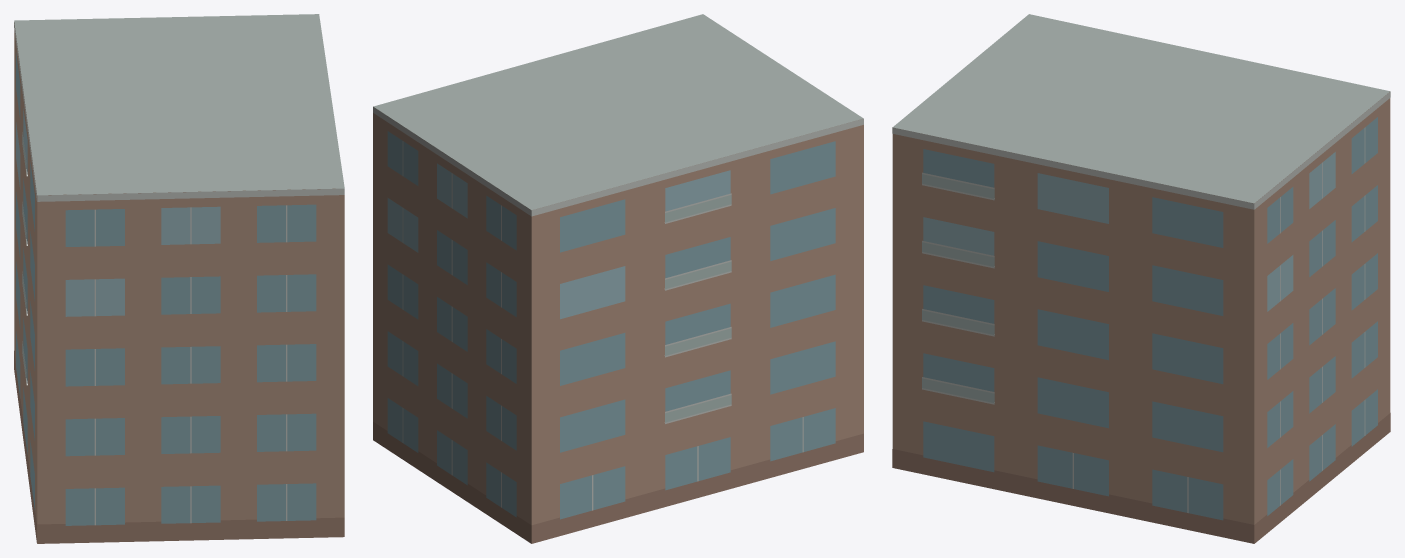
The model's file is survey-upis-32852731.glb.
3 renders of one model, left to right at view 1: azimuth 30°, elevation 25°; view 2: azimuth 150°, elevation 25°; view 3: azimuth 270°, elevation 25°, orthographic. The views are drawn at different scales.
Visible parts, largest first — view 1: survey-upis-32852731.tmp; view 2: survey-upis-32852731.tmp; view 3: survey-upis-32852731.tmp.
Boxes of the visible parts, left/top/right/bottom form: survey-upis-32852731.tmp: left=14, top=14, right=344, bottom=543; survey-upis-32852731.tmp: left=373, top=14, right=863, bottom=543; survey-upis-32852731.tmp: left=892, top=14, right=1390, bottom=543.
Size of the model in its own units: 15.58 by 13.05 by 17.31.
